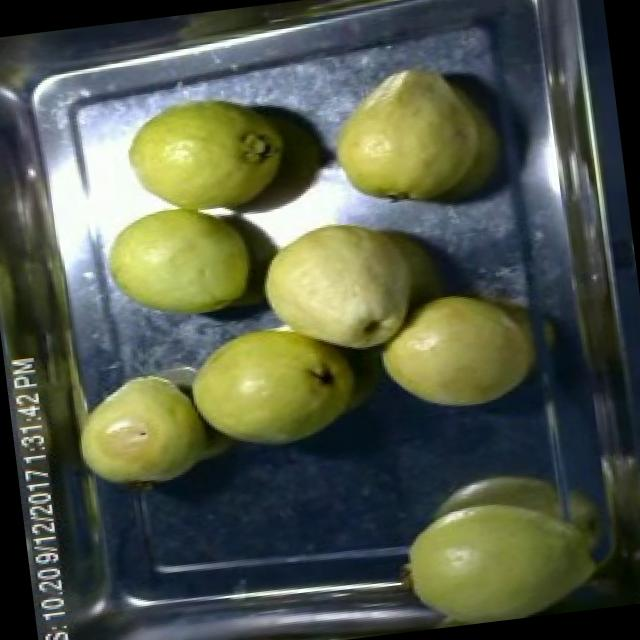Fruit: (237, 188, 461, 376), (107, 64, 342, 241), (306, 41, 520, 234), (382, 466, 630, 632), (173, 302, 370, 465), (364, 272, 550, 424), (87, 190, 271, 328), (62, 357, 218, 501)
